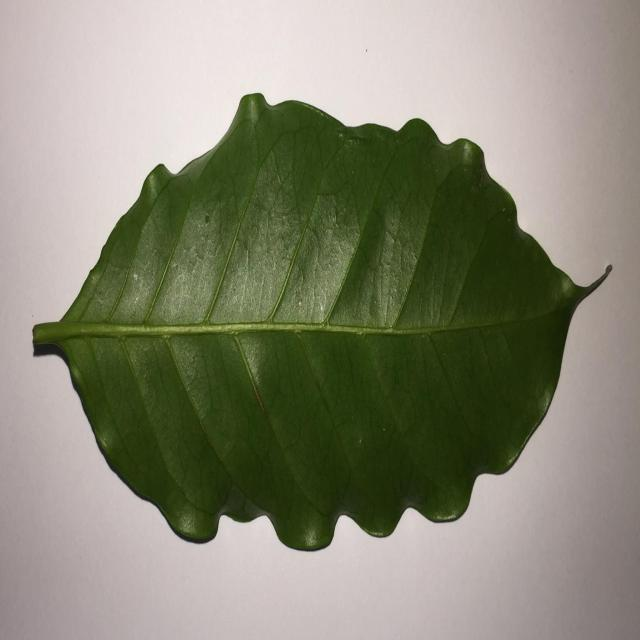Sanas: (31, 92, 610, 554)
